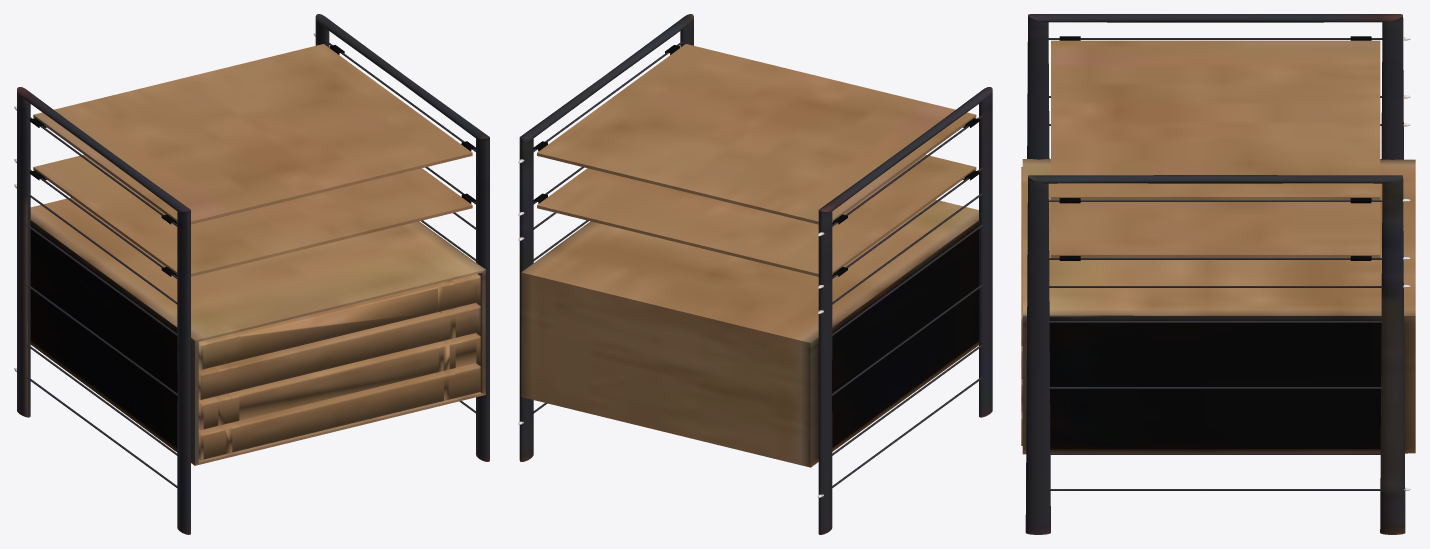
Rendered from ph-drawer-cabinet.glb.
The picture shows the model from 3 angles, left to right: view 1: azimuth 30°, elevation 25°; view 2: azimuth 150°, elevation 25°; view 3: azimuth 270°, elevation 25°; orthographic projection. The views are drawn at different scales.
Visible parts, largest first — view 1: drawer_cabinet; view 2: drawer_cabinet; view 3: drawer_cabinet.
Boxes of the visible parts, x1,y1,x2,y2 form: drawer_cabinet: (14, 14, 489, 534); drawer_cabinet: (518, 14, 992, 534); drawer_cabinet: (1021, 14, 1415, 534).
Bounding box in the file's own units: 1 × 1 × 1.
Materials: 1 (1 with a texture image).
